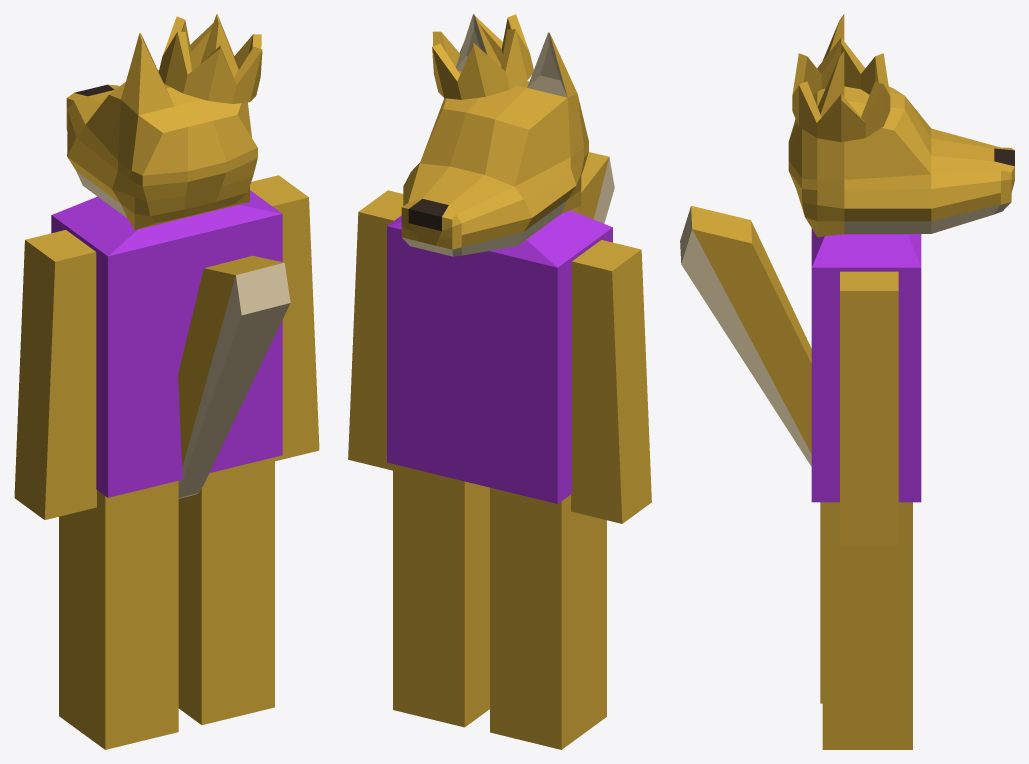
The model's file is Dingo.glb.
3 renders of one model, left to right at view 1: azimuth 30°, elevation 25°; view 2: azimuth 150°, elevation 25°; view 3: azimuth 270°, elevation 25°, orthographic. The views are drawn at different scales.
Visible parts, largest first — view 1: Cube, Cube.003, Cube.001, Cube.002, Cube.005, Cube.006, Cube.004, Cylinder; view 2: Cube, Cube.003, Cube.001, Cube.002, Cube.005, Cube.004, Cylinder, Cube.006; view 3: Cube.001, Cube.002, Cube, Cube.004, Cube.006, Cylinder, Cube.003.
Part boxes in pixels (x1,y1,x2,y2): Cube: (51, 190, 282, 497); Cube.003: (59, 481, 178, 749); Cube.001: (66, 14, 257, 229); Cube.002: (178, 457, 274, 724); Cube.005: (14, 230, 96, 519); Cube.006: (178, 255, 290, 498); Cube.004: (250, 175, 319, 461); Cylinder: (159, 16, 262, 103); Cube: (387, 210, 612, 503); Cube.003: (490, 487, 606, 749); Cube.001: (401, 14, 588, 256); Cube.002: (393, 464, 489, 727); Cube.005: (571, 240, 651, 523); Cube.004: (348, 190, 403, 470); Cylinder: (432, 14, 533, 99); Cube.006: (571, 152, 614, 223); Cube.001: (788, 14, 1014, 236); Cube.002: (822, 502, 912, 749); Cube: (811, 228, 921, 502); Cube.004: (840, 271, 898, 544); Cube.006: (680, 205, 811, 466); Cylinder: (792, 37, 890, 142); Cube.003: (820, 502, 822, 703).
Size of the model in its own units: 0.7948 by 1.91 by 0.8548.
